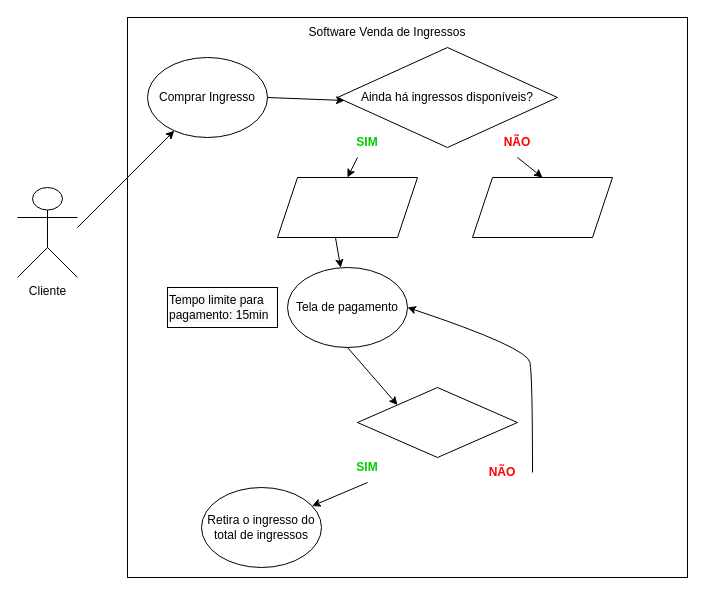
This 705x595 diagram has some shape labels left out. Each missing label, with the centre of its shape:
"Alerta de ingressos esgotados" belongs at pixel 542 207.
"Compra autorizada?" belongs at pixel 437 422.
"Reserva o ingresso" belongs at pixel 347 207.
